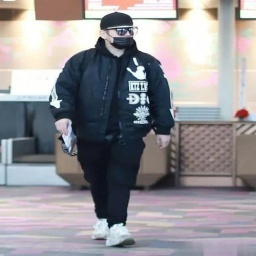incorrectlyWear: (99, 24, 136, 49)
